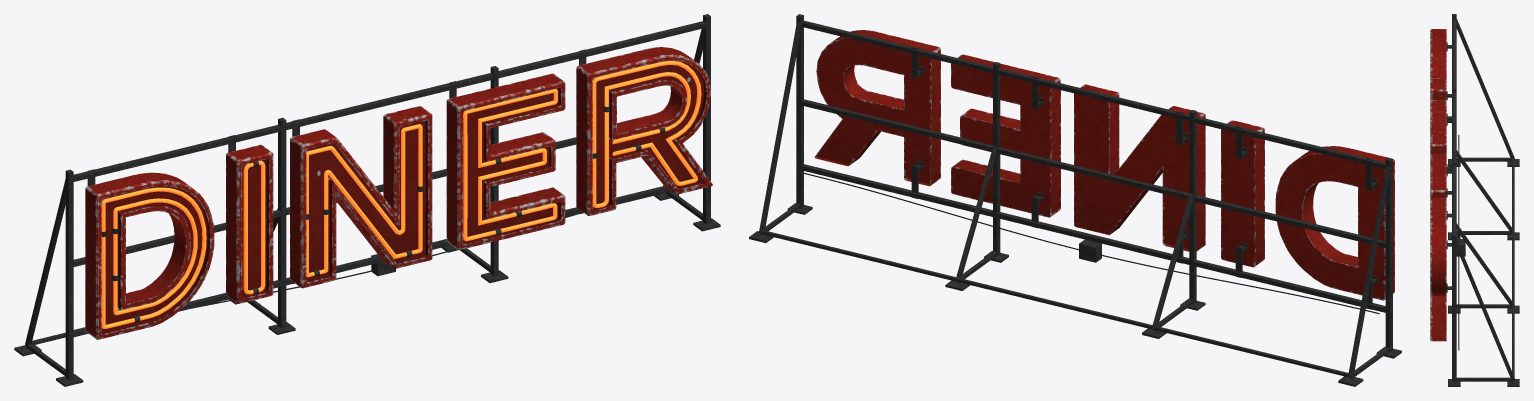
Rendered from SM_Dinner_Metal.fbx.
3 views of the same model, side by side, from view 1: azimuth 30°, elevation 25°; view 2: azimuth 150°, elevation 25°; view 3: azimuth 270°, elevation 25° (orthographic). The views are drawn at different scales.
Visible parts, largest first — view 1: SM_Dinner_Metal; view 2: SM_Dinner_Metal; view 3: SM_Dinner_Metal.
Boxes of the visible parts, x1,y1,x2,y2 form: SM_Dinner_Metal: (14, 14, 720, 386); SM_Dinner_Metal: (749, 14, 1401, 386); SM_Dinner_Metal: (1430, 14, 1519, 386).
Size of the model in its own units: 8.2 by 2.51 by 1.37.
2 materials, 1 textured.
